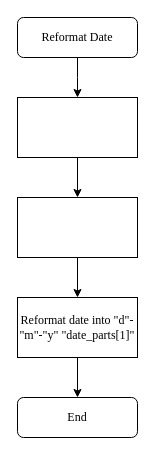
Image size: 155x455. Some labels were removed from this diagram. The box of each missing label's shape, as (x1, y1, x2, y2) in pixels:
Split "date_parts[0]" into: "y", "m", "d": (16, 196, 138, 258)
Split date into "date_parts[0]" (date) and "date_parts[1]" (time): (16, 96, 138, 158)
